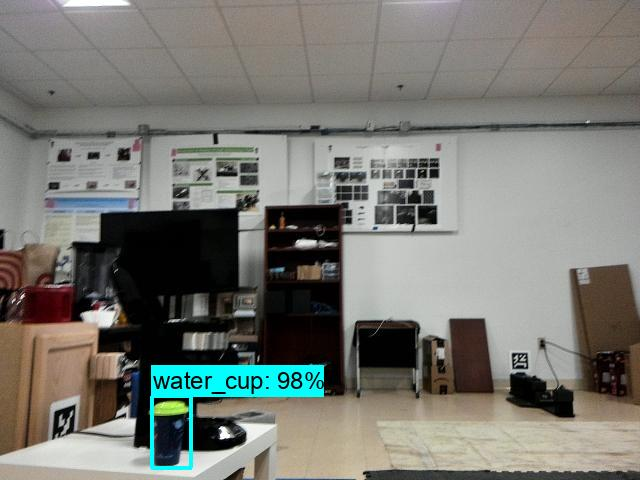water_cup: (150, 396, 189, 468)
